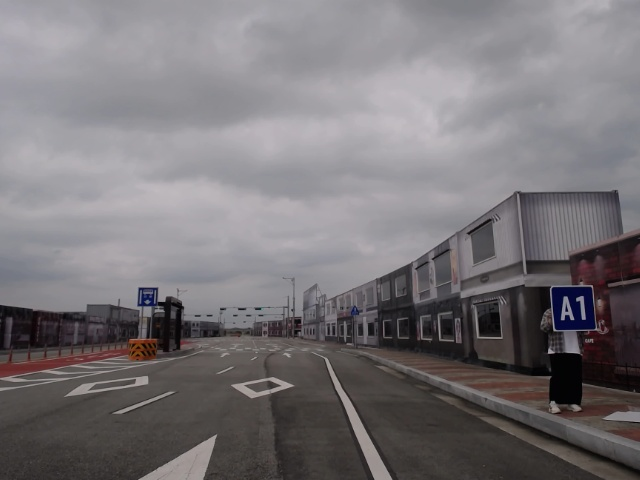delivery_a1: (549, 286, 598, 332)
